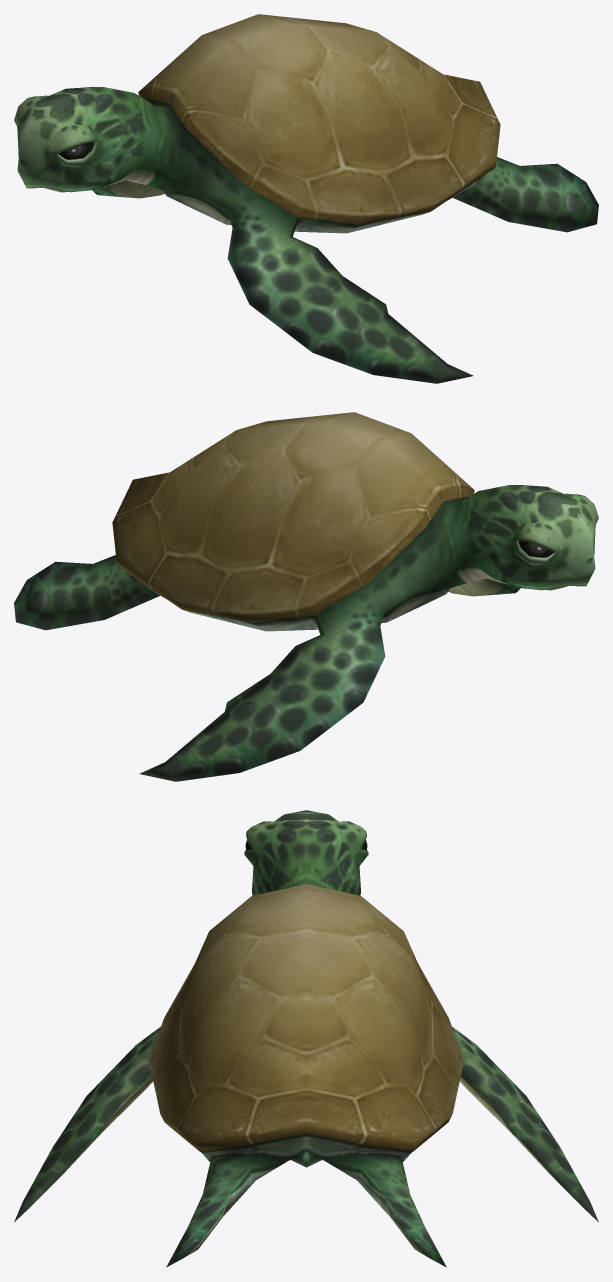
The model's file is f19_lvhaigui.FBX.
3 renders of one model, top to bottom at view 1: azimuth 30°, elevation 25°; view 2: azimuth 150°, elevation 25°; view 3: azimuth 270°, elevation 25°, orthographic. The views are drawn at different scales.
Parts seen in each view (by area): view 1: f19_lvhaigui; view 2: f19_lvhaigui; view 3: f19_lvhaigui.
Boxes of the visible parts, x1,y1,x2,y2 form: f19_lvhaigui: (14,14,598,383); f19_lvhaigui: (14,412,598,781); f19_lvhaigui: (14,810,598,1267).
Bounding box in the file's own units: 78.68 × 38.3 × 70.84.
Materials: 1 (1 with a texture image).
